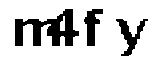4: (46, 6, 79, 52)
f: (82, 6, 105, 50)
m: (8, 16, 58, 49)
y: (109, 14, 148, 60)
